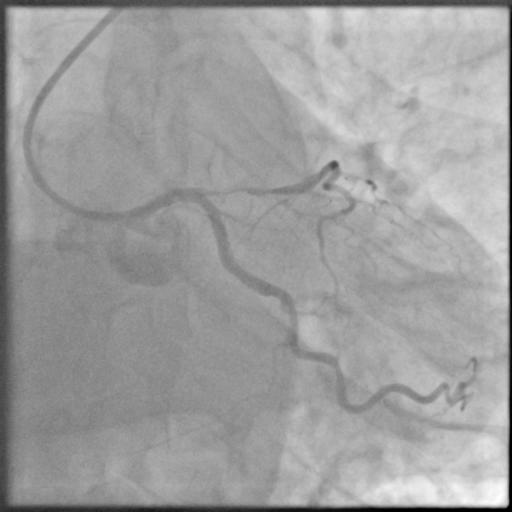Stenosis: (201, 182, 273, 197)
